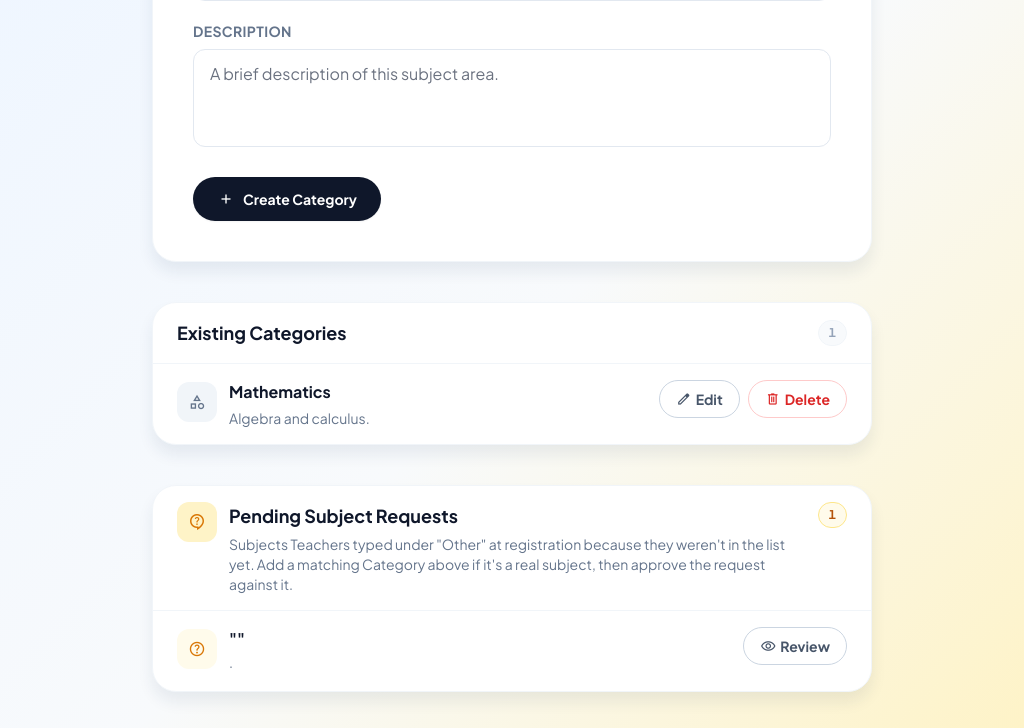
Test case: CategoryManagementPage › editing a category posts to the API with a PUT and updates it in the list immediately
The image size is (1024, 728).
(page scrolled)
Expected: the text "Mathematics" is shown, [229,381,331,402]
Click the button "Edit": {"x": 699, "y": 399} [659,380,740,418]
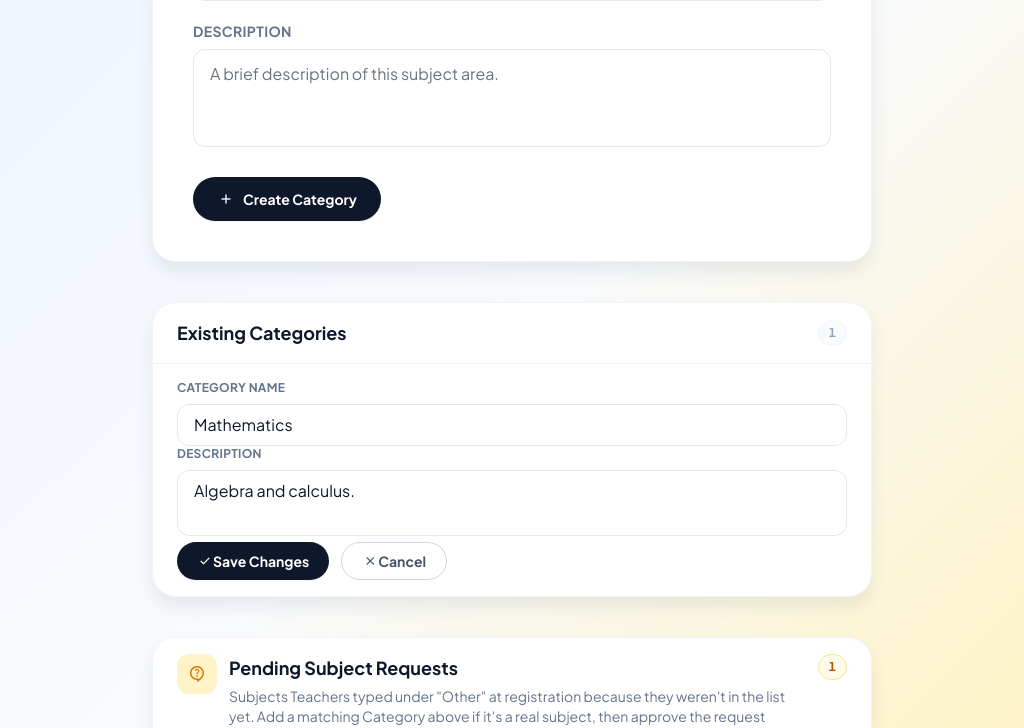
Replace the text in the field labelled "Category Name" below "Existing Categories" with "Mathematics (Updated)": {"x": 512, "y": 425} [177,404,847,446]
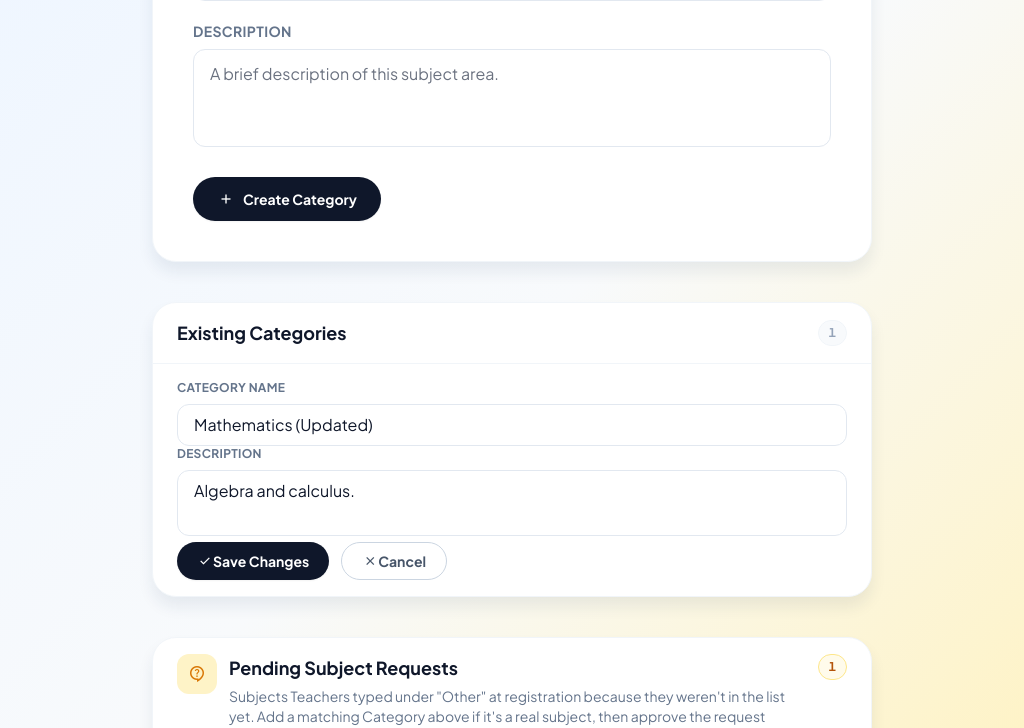
Replace the text in the text box labelled "Description" below "Existing Categories" with "Corrected description.": {"x": 512, "y": 503} [177,470,847,536]
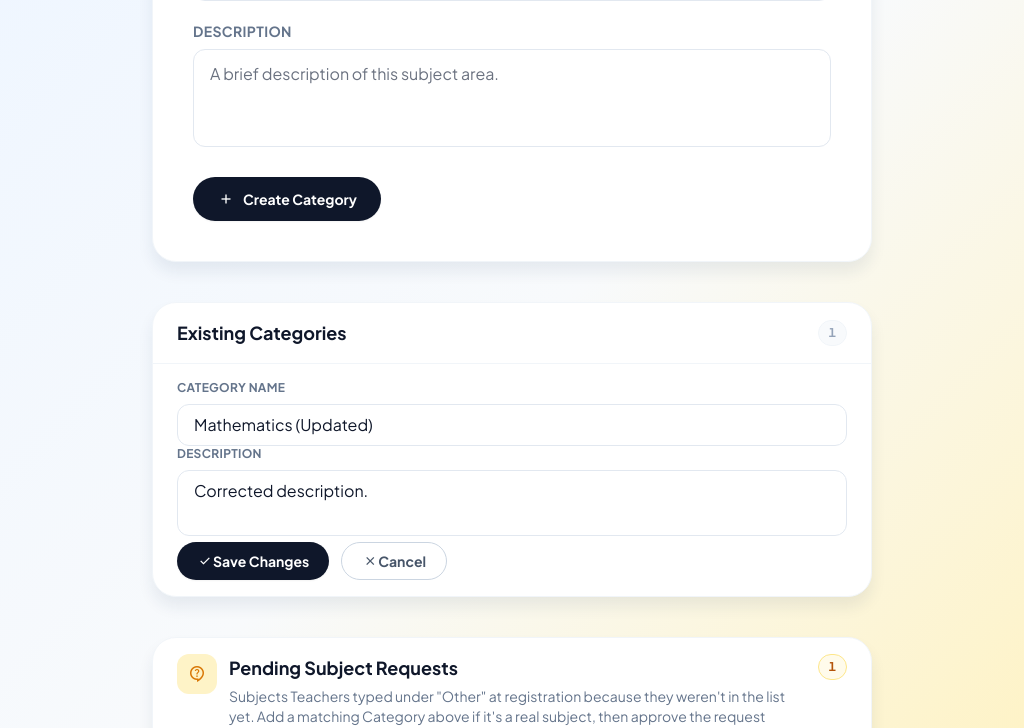
Click the button "Save Changes": {"x": 253, "y": 561} [177,542,329,580]
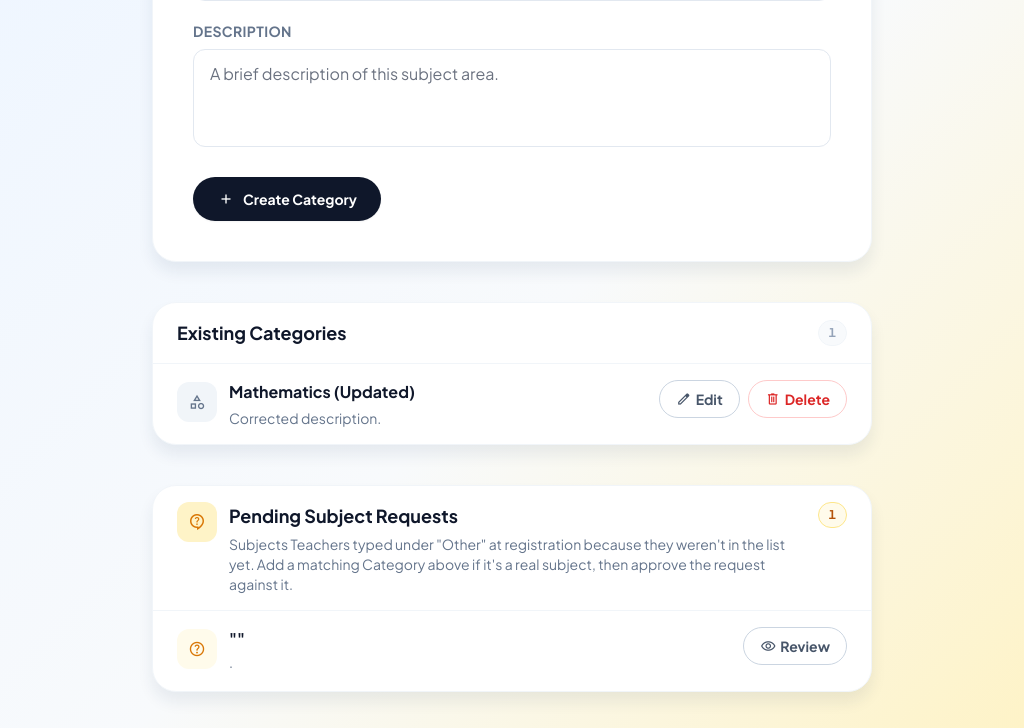
Expected: the text "Mathematics (Updated)" is shown, [229,380,415,404]
Expected: the text "Corrected description." is shown, [229,409,381,427]
Expected: the button "Save Changes" is gone
